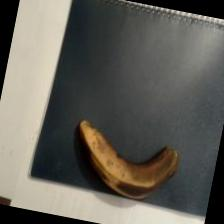Banana Rotten: (52, 102, 196, 210)
